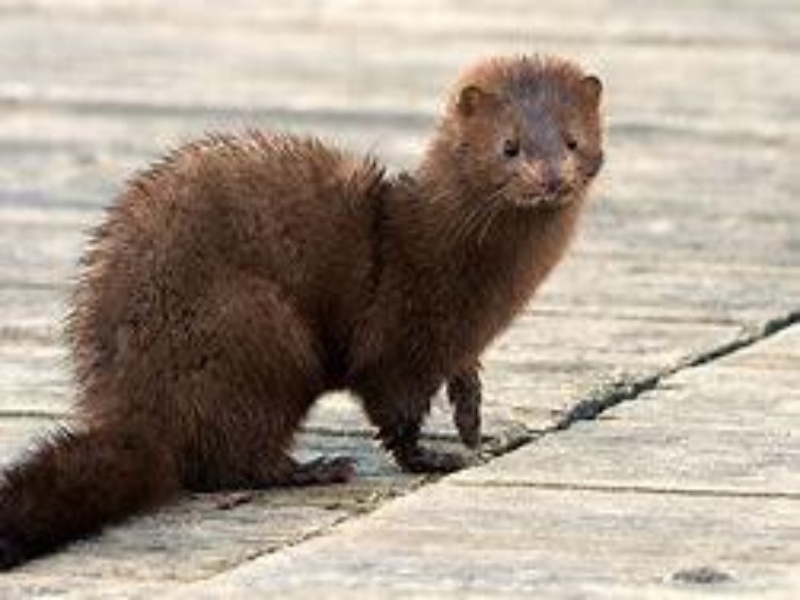minkish: (1, 48, 613, 571)
